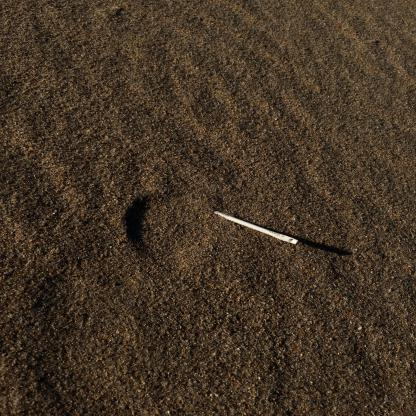plastik: (214, 212, 300, 246)
